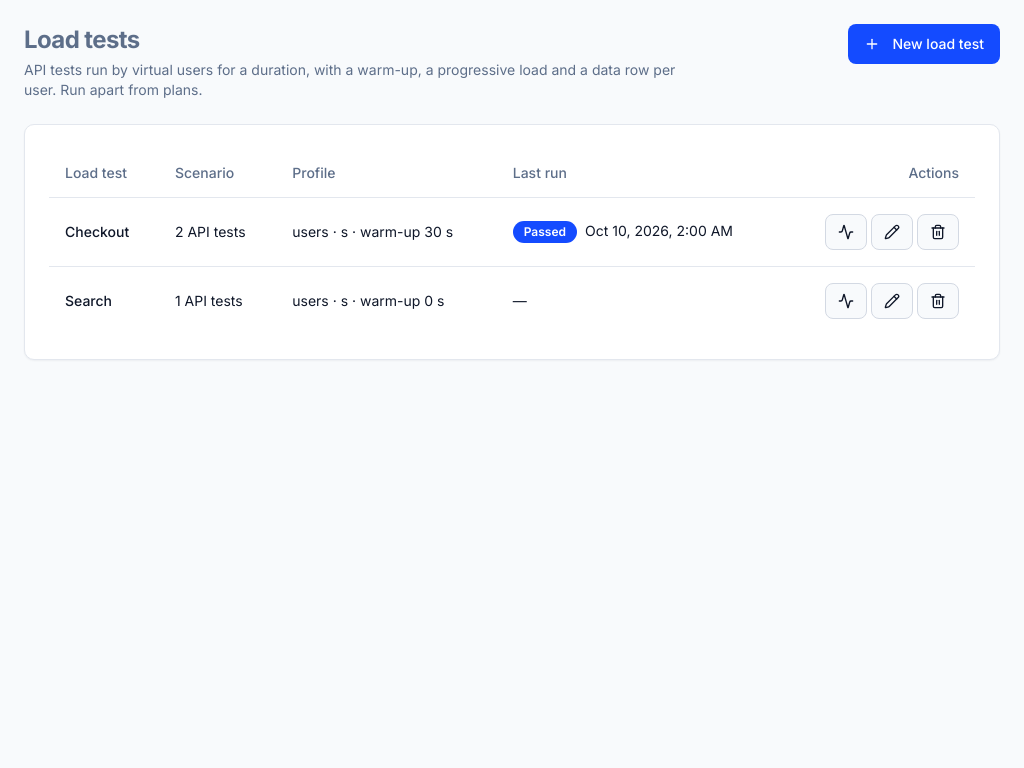
Scenario: LoadTestsPage › starts a run with no environment when none is chosen
Expected: the row with test id "load-test-8" is shown, top-left (49, 266), bottom-right (975, 334)
Click the button named "Runs of Search".
click(846, 300)  # box top-left (825, 282), bottom-right (867, 318)
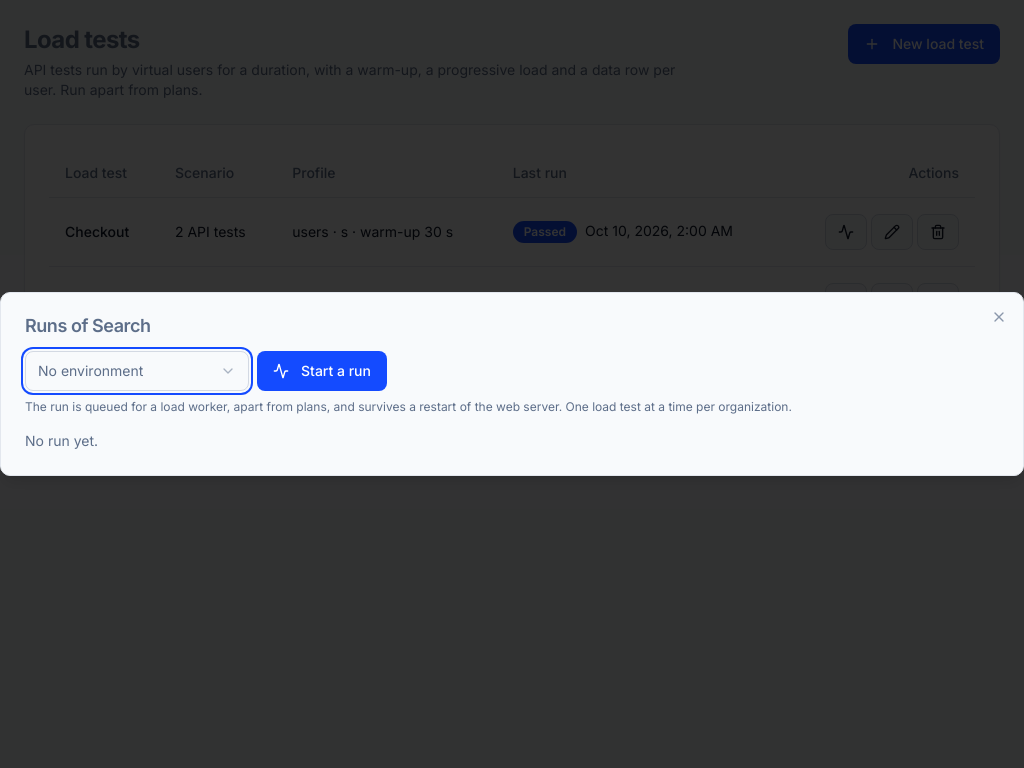
Click the button "Start a run".
click(322, 371)  # box top-left (257, 351), bottom-right (387, 391)
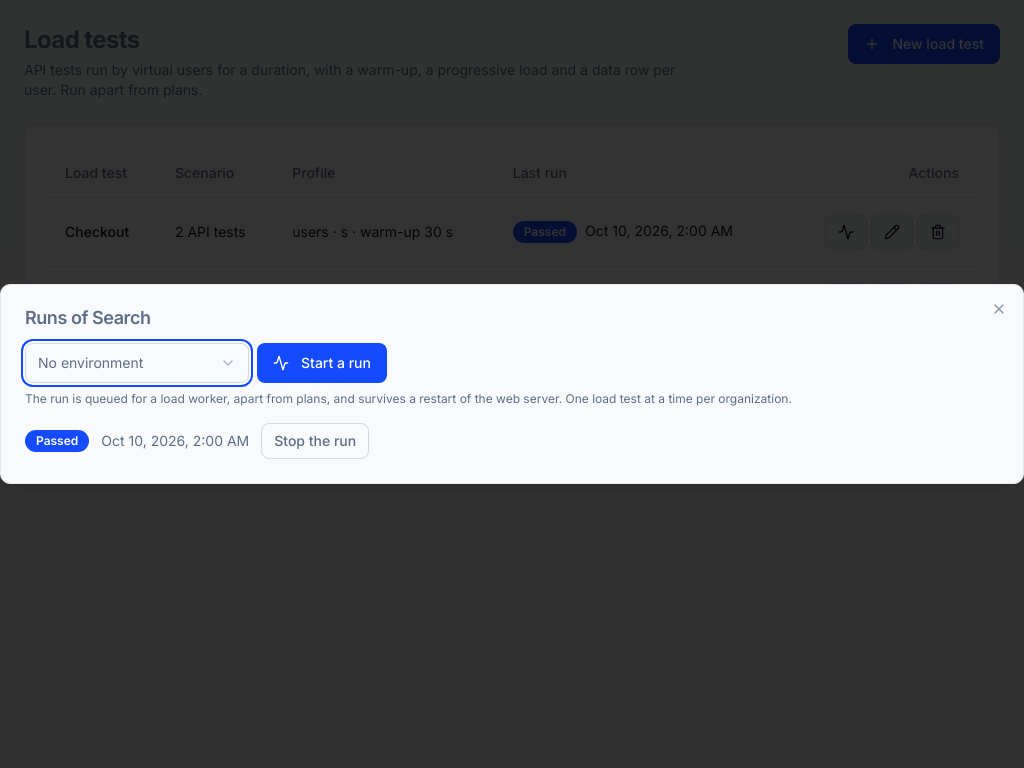
Expected: the element with test id "load-run-run-3" is shown, top-left (25, 423), bottom-right (369, 459)
